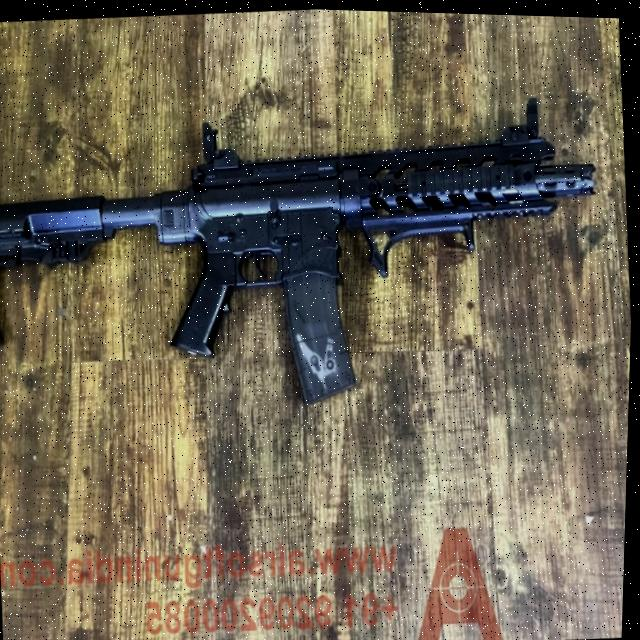firearm: (0, 76, 615, 434)
